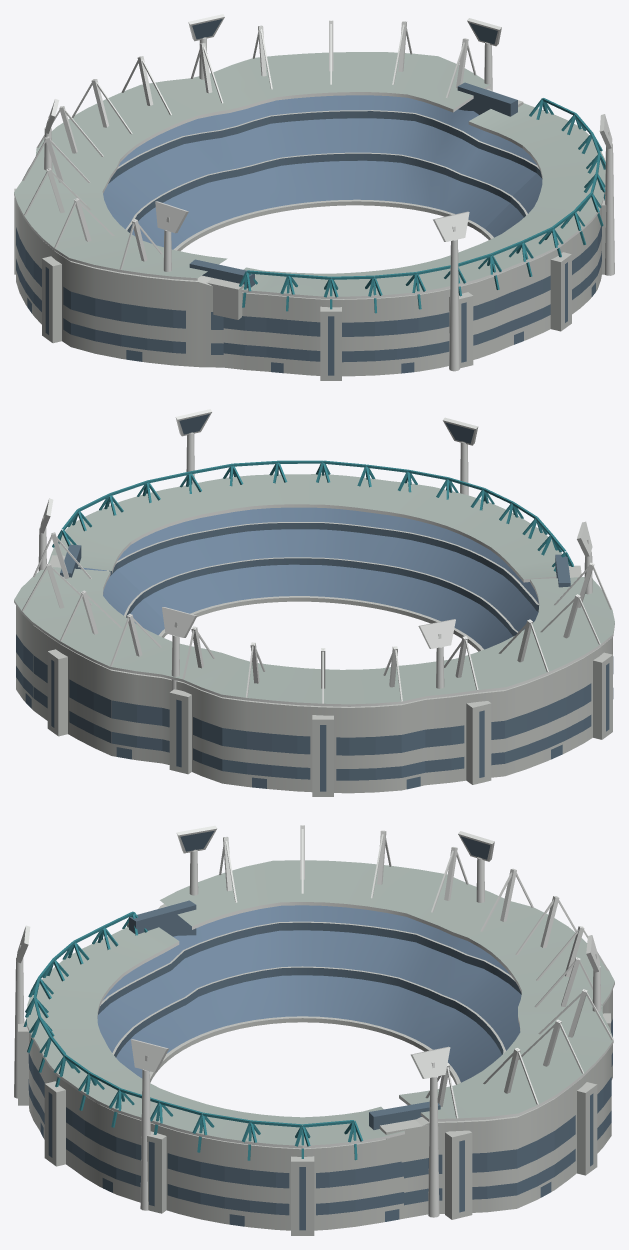
The model's file is melbourne-mcg.glb.
The picture shows the model from 3 angles, top to bottom: view 1: azimuth 30°, elevation 25°; view 2: azimuth 150°, elevation 25°; view 3: azimuth 270°, elevation 25°; orthographic projection. The views are drawn at different scales.
Parts seen in each view (by area): view 1: Melbourne Cricket Ground; view 2: Melbourne Cricket Ground; view 3: Melbourne Cricket Ground.
Part boxes in pixels (x1,y1,x2,y2): Melbourne Cricket Ground: [14, 14, 614, 380]; Melbourne Cricket Ground: [14, 409, 614, 796]; Melbourne Cricket Ground: [14, 825, 614, 1235].
Bounding box in the file's own units: 317 × 84.41 × 284.
